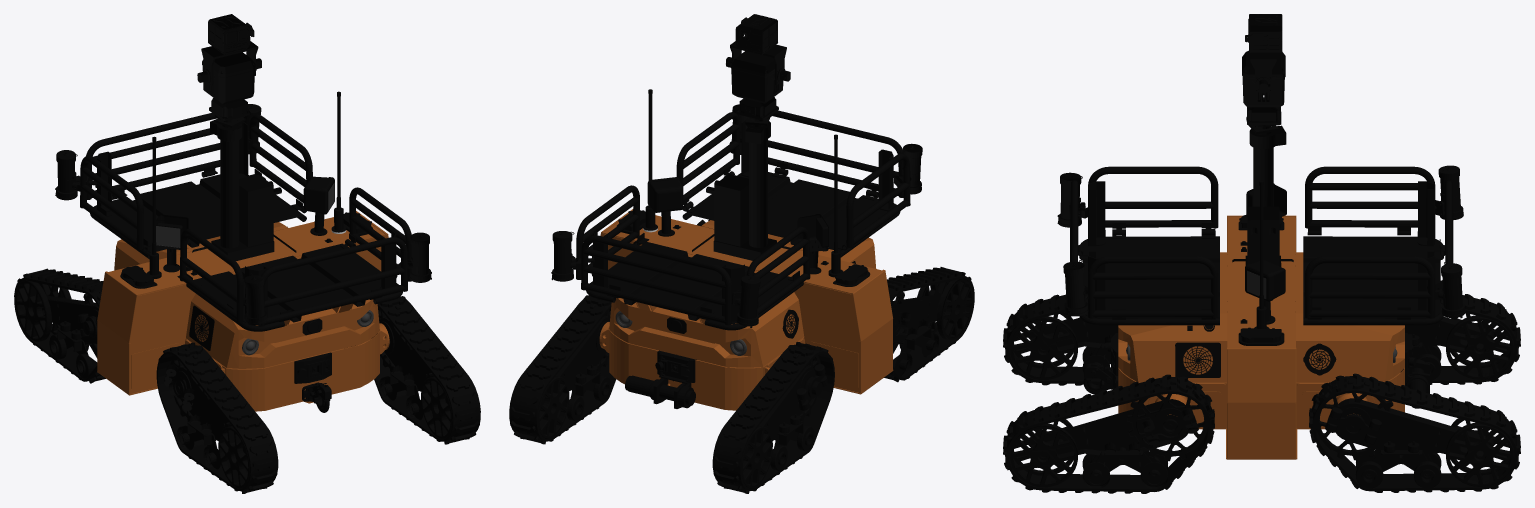
The model's file is Hancer_Root.obj.
3 views of the same model, side by side, from view 1: azimuth 30°, elevation 25°; view 2: azimuth 150°, elevation 25°; view 3: azimuth 270°, elevation 25° (orthographic). The views are drawn at different scales.
Parts seen in each view (by area): view 1: obj2, obj1, obj14, obj15, obj8, obj13, obj12, obj17, obj16, obj11, obj6; view 2: obj2, obj1, obj15, obj14, obj8, obj13, obj12, obj16, obj11; view 3: obj2, obj1, obj14, obj15, obj8, obj13, obj12, obj17, obj16, obj11.
Part boxes in pixels (bbox=[...]): obj2: bbox=[55, 91, 411, 412]; obj1: bbox=[97, 211, 389, 411]; obj14: bbox=[156, 296, 480, 493]; obj15: bbox=[14, 226, 287, 383]; obj8: bbox=[210, 119, 281, 261]; obj13: bbox=[197, 14, 261, 86]; obj12: bbox=[202, 52, 255, 104]; obj17: bbox=[397, 232, 431, 282]; obj16: bbox=[243, 273, 267, 326]; obj11: bbox=[209, 98, 250, 120]; obj6: bbox=[156, 182, 334, 247]; obj2: bbox=[551, 89, 910, 408]; obj1: bbox=[599, 209, 893, 410]; obj15: bbox=[509, 295, 834, 493]; obj14: bbox=[884, 267, 974, 382]; obj8: bbox=[706, 121, 776, 260]; obj13: bbox=[726, 14, 790, 85]; obj12: bbox=[730, 51, 783, 103]; obj16: bbox=[894, 143, 922, 194]; obj11: bbox=[737, 97, 778, 120]; obj2: bbox=[1070, 165, 1465, 408]; obj1: bbox=[1118, 215, 1404, 459]; obj14: bbox=[1003, 294, 1214, 493]; obj15: bbox=[1309, 294, 1520, 492]; obj8: bbox=[1245, 125, 1286, 266]; obj13: bbox=[1245, 14, 1282, 93]; obj12: bbox=[1242, 50, 1285, 107]; obj17: bbox=[1063, 260, 1088, 317]; obj16: bbox=[1057, 172, 1087, 227]; obj11: bbox=[1247, 97, 1281, 125].
Bounding box in the file's own units: 1.46 × 1.95 × 2.26.
